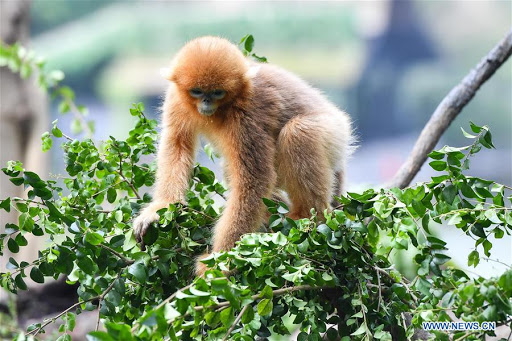GoldenSnub-Nosed: (150, 28, 369, 238)
